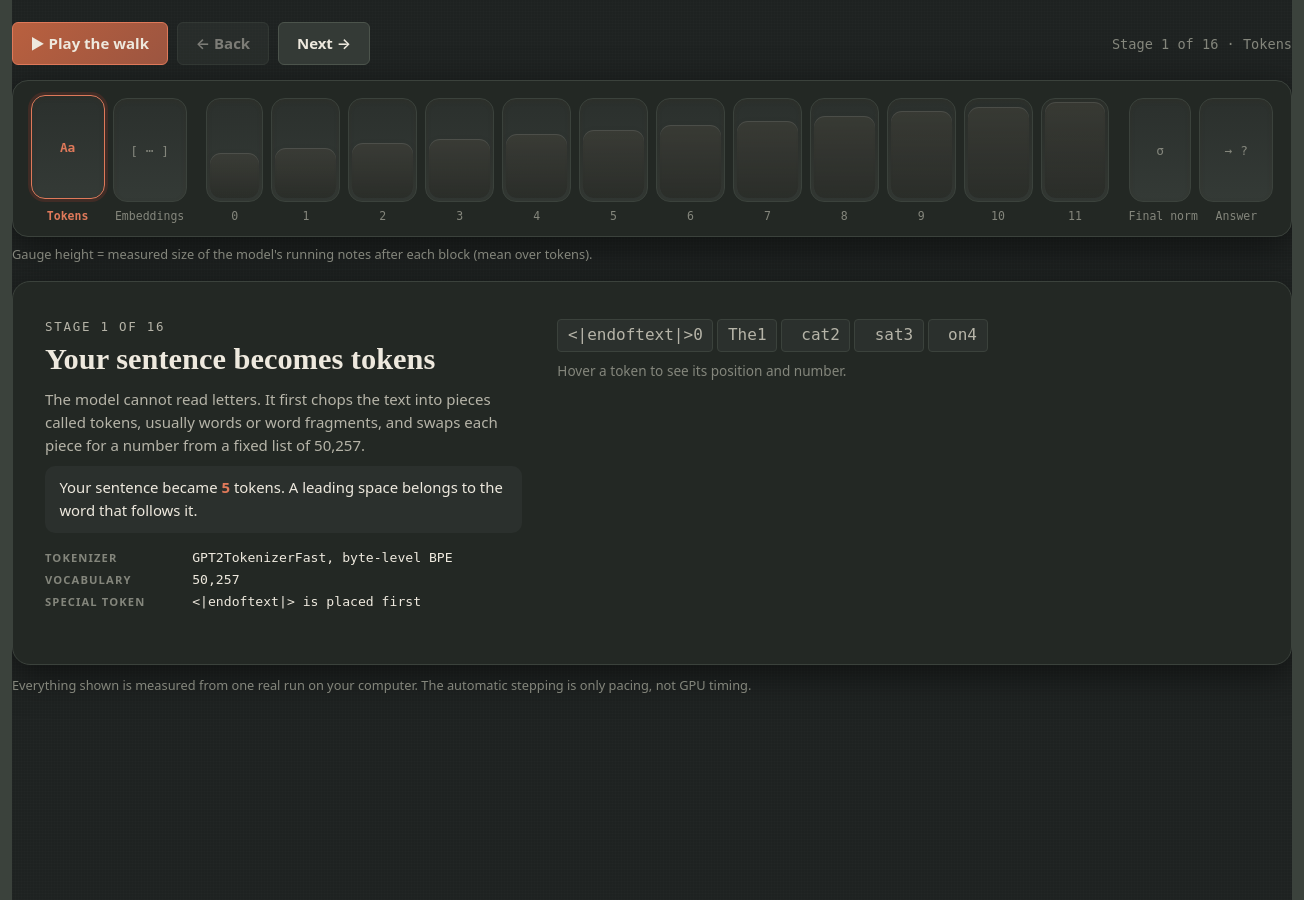
guided tour › walks the stages: tokens, embeddings, a block, the answer
This screenshot has width=1304, height=900.
Expected: the heading "Your sentence becomes tokens" is shown, [45,342,435,376]
Expected: the text "Stage 1 of 16 · Tokens" is shown, [1112,36,1292,52]
Click the button with aria-label "Next stage".
click(324, 44)  # box [278,22,370,65]
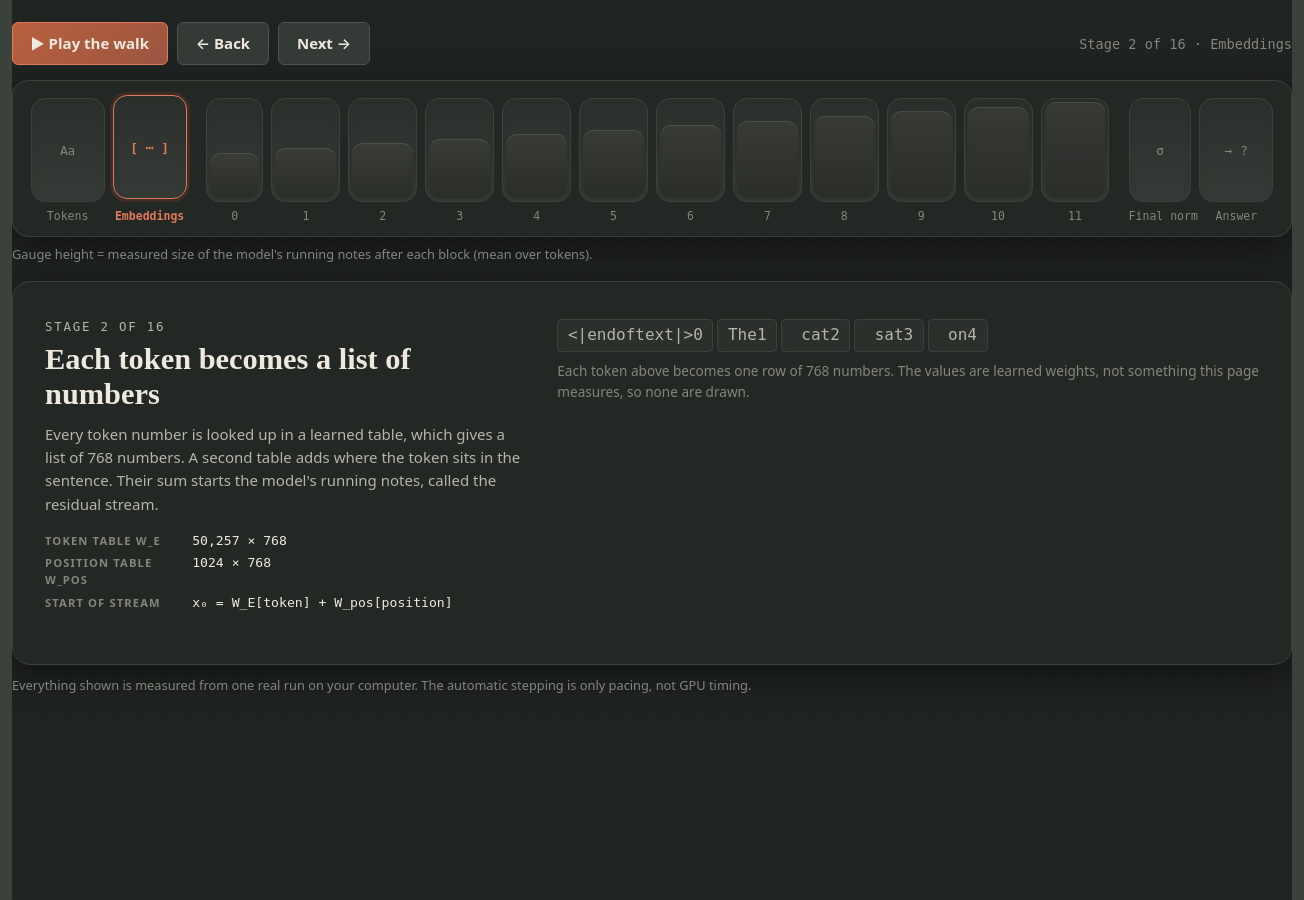
Expected: the heading "Each token becomes a list of numbers" is shown, [45,342,410,411]
Click the tab named "Block 3".
click(460, 161)  # box [425,98,494,223]
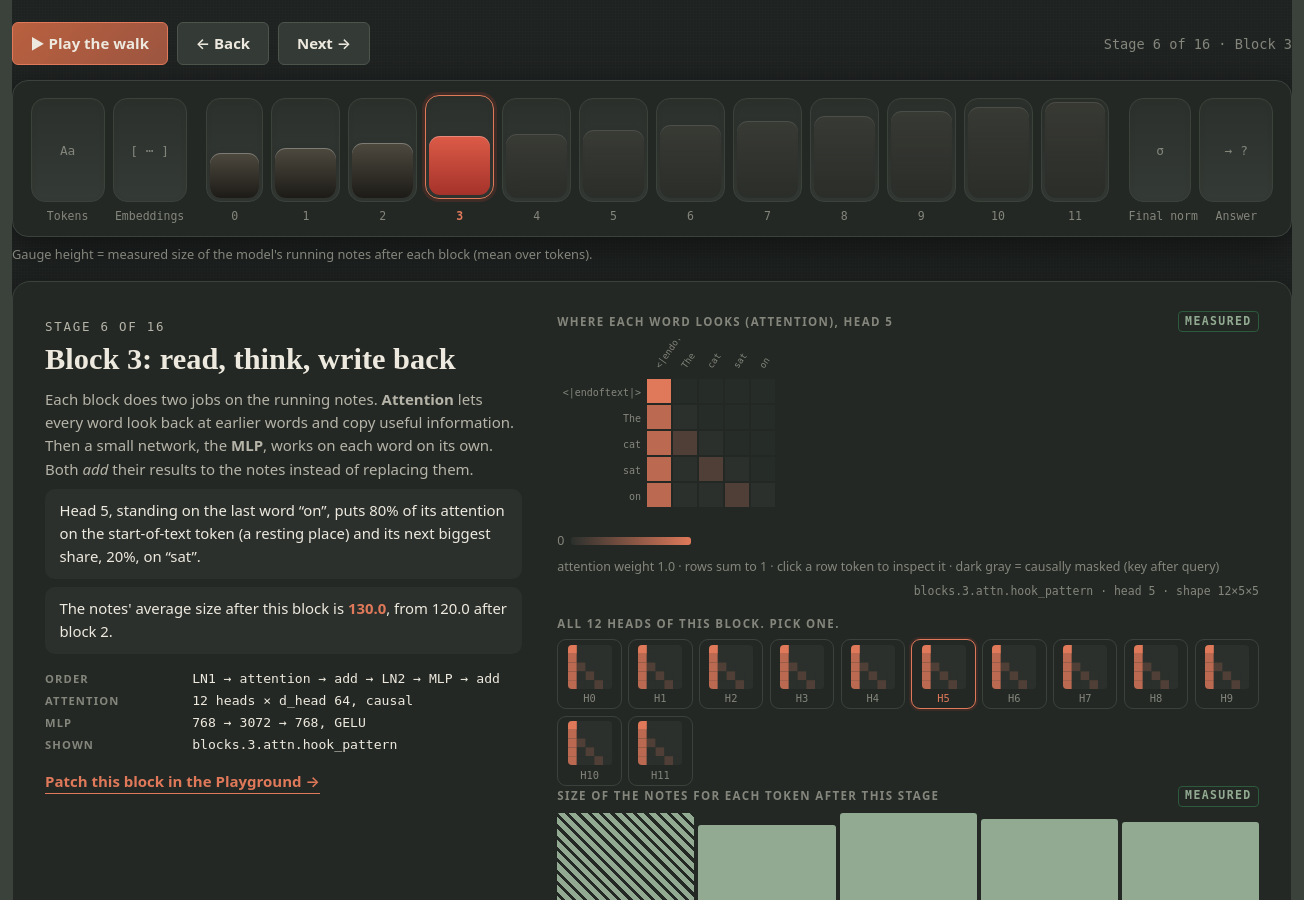
Expected: the heading "Block 3: read, think, write back" is shown, [45,342,522,377]
Expected: the text "puts 80% of its attention" is shown, [45,489,522,579]
Expected: the text "blocks.3.attn.hook_pattern" is shown, [192,737,397,752]
Click the tab "→ ? Answer".
click(1236, 161)  # box [1199,98,1273,223]
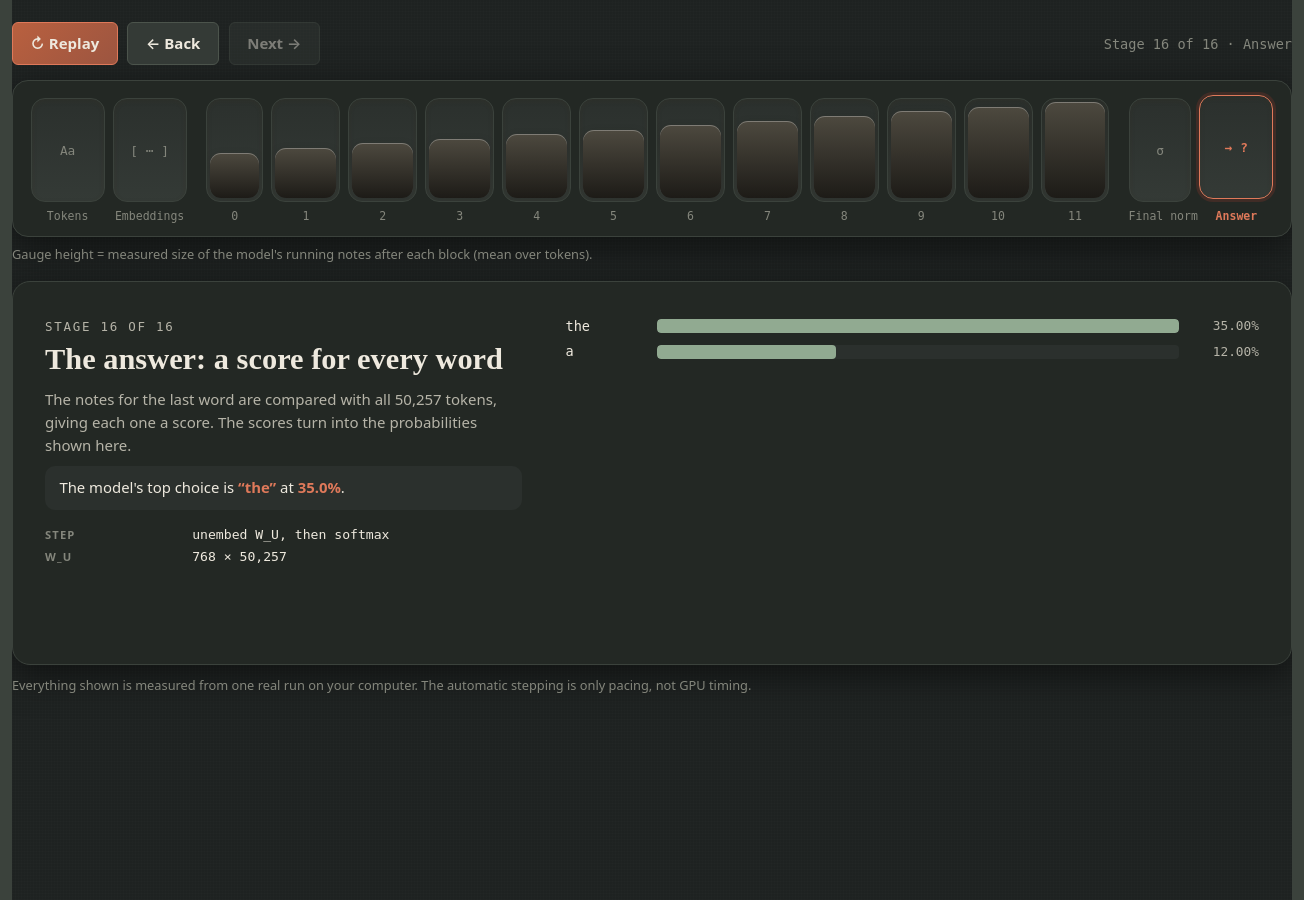
Expected: the heading "The answer: a score for every word" is shown, [45,342,522,377]
Expected: the text "35.0%" is shown, [298,477,341,497]
